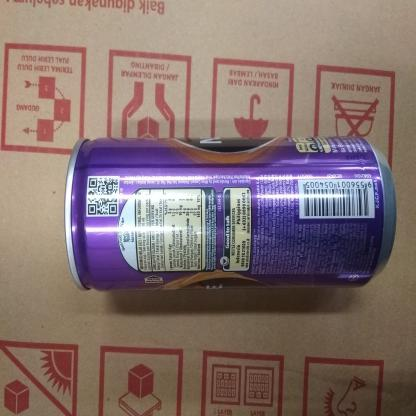can: (67, 126, 402, 302)
